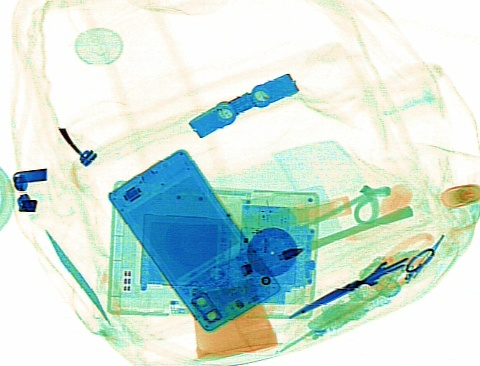scissors: (284, 230, 436, 321)
